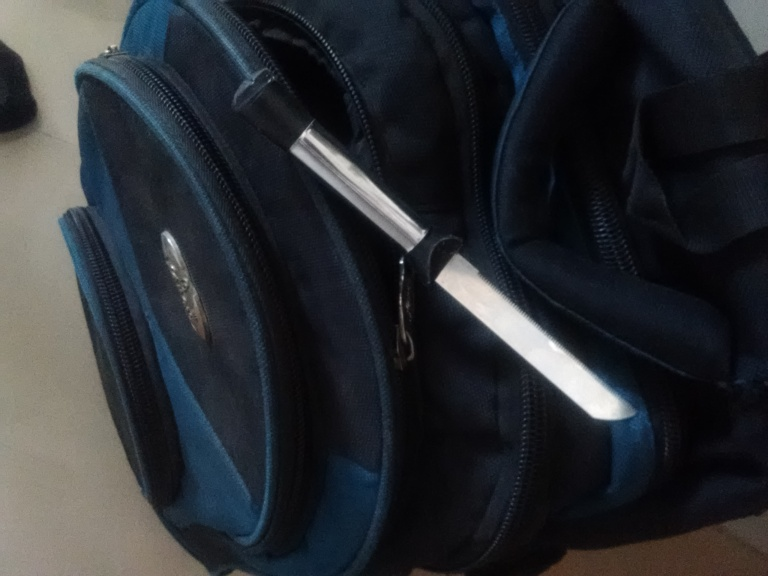knife: (229, 67, 639, 420)
